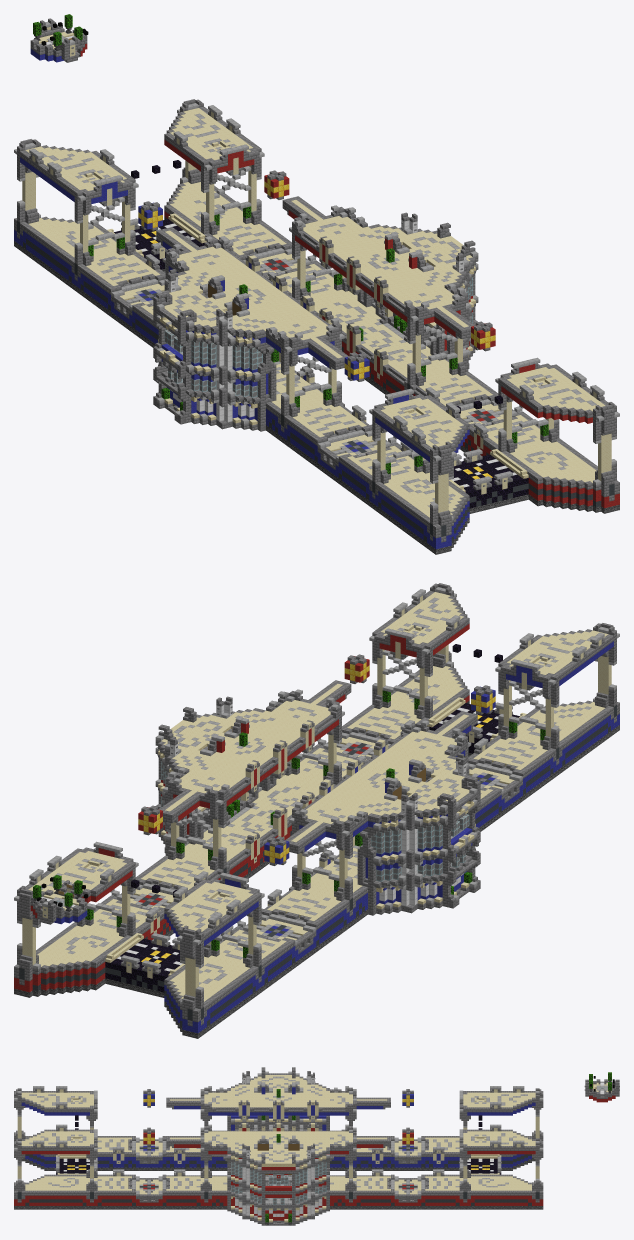
The model's file is minecraft.obj.
The picture shows the model from 3 angles, top to bottom: view 1: azimuth 30°, elevation 25°; view 2: azimuth 150°, elevation 25°; view 3: azimuth 270°, elevation 25°; orthographic projection. The views are drawn at different scales.
Bounding box in the file's own units: 56 × 30 × 159.
